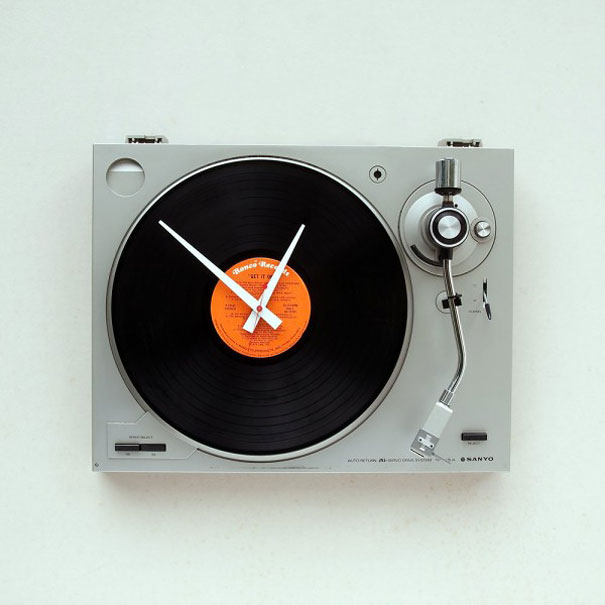clock: (110, 159, 409, 455)
